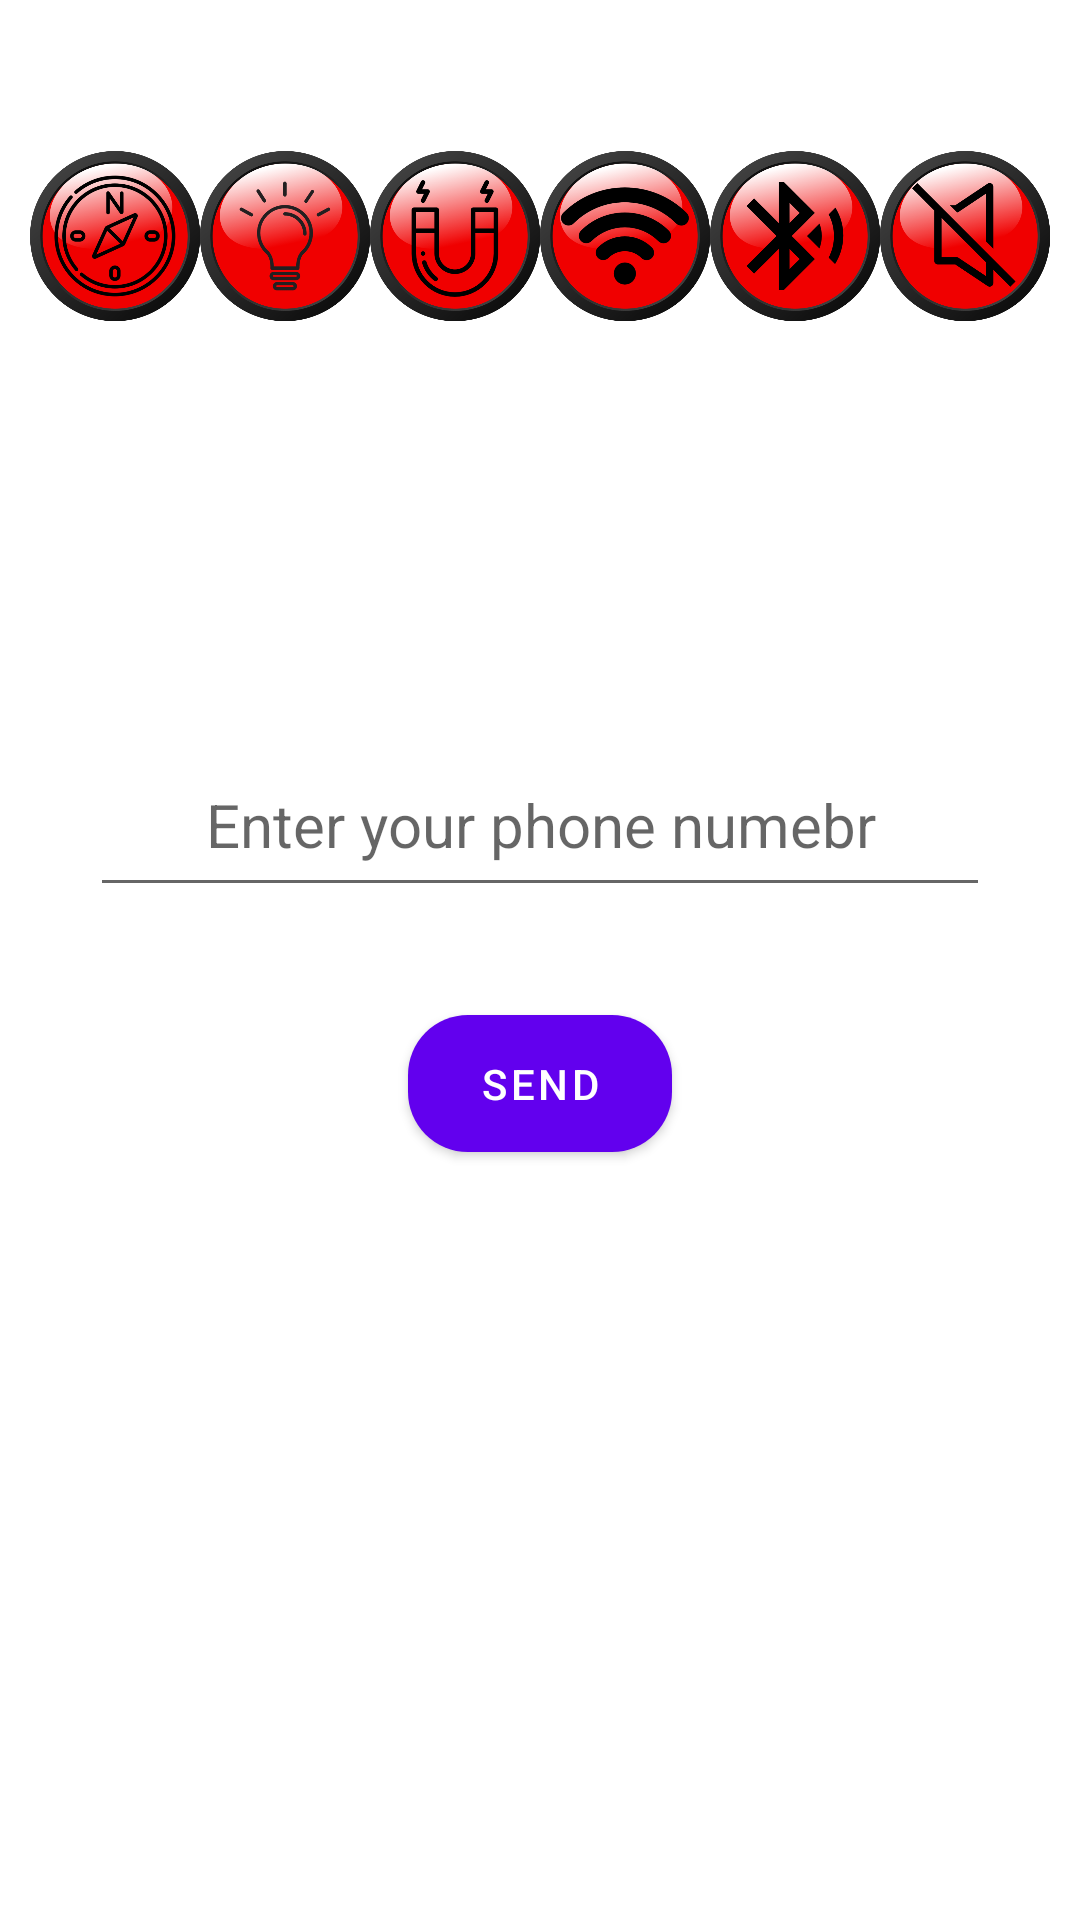

Point at icon controls on the screen. Image size 1080*1920, points as (x=x, y=y).
magnet: (x=455, y=236)
mute: (x=965, y=236)
orientation: (x=115, y=236)
wifi: (x=625, y=236)
